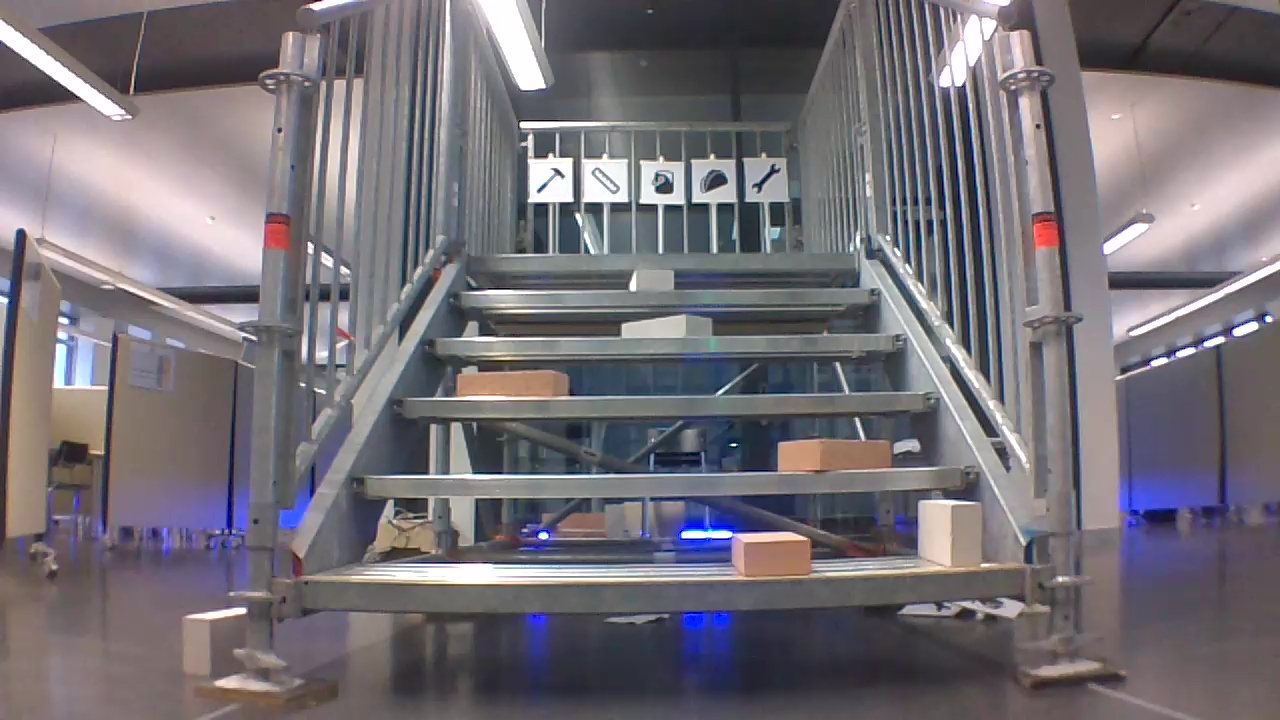brick: (912, 497, 985, 569), (773, 436, 897, 476), (186, 604, 246, 681), (449, 367, 574, 399), (732, 529, 810, 577), (618, 315, 715, 339), (629, 267, 674, 292)
bucket: (650, 168, 675, 196)
edge: (290, 558, 1041, 610), (359, 461, 979, 504), (429, 331, 908, 355), (473, 246, 859, 273), (394, 395, 936, 413), (456, 289, 879, 307)
hammer: (536, 165, 567, 194)
ruler: (591, 165, 624, 196)
stairs: (275, 0, 1076, 697)
steps: (275, 241, 1033, 614)
taco: (700, 167, 729, 195)
wrench: (751, 162, 781, 195)
